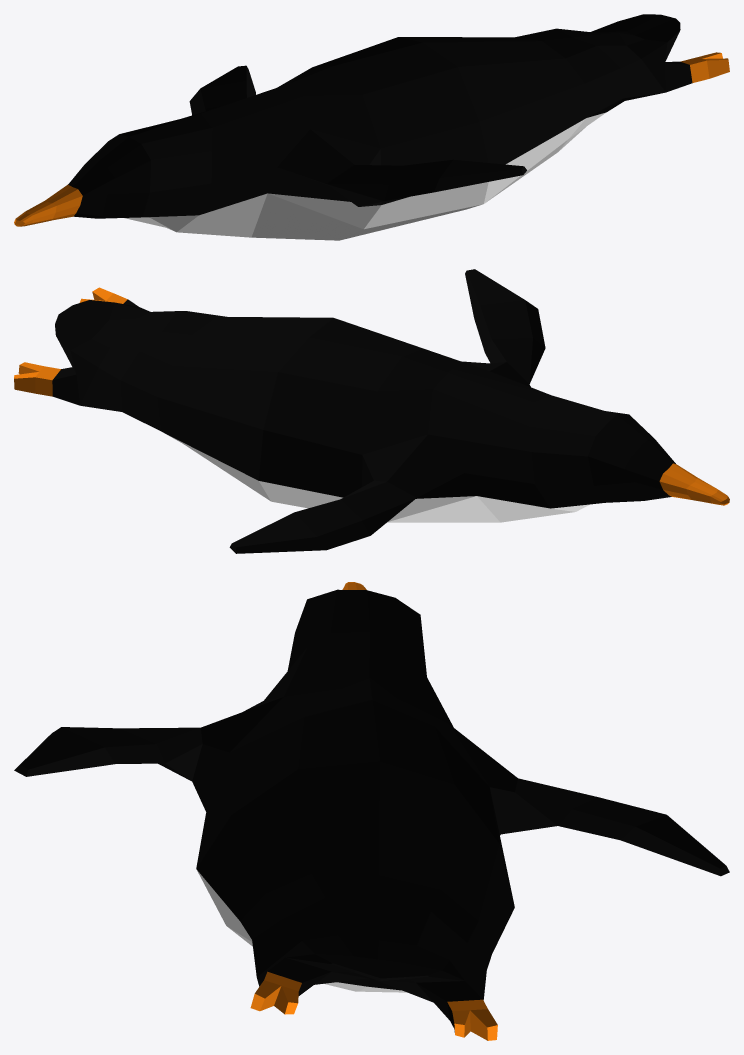
Rendered from Penguin.obj.
3 renders of one model, top to bottom at view 1: azimuth 30°, elevation 25°; view 2: azimuth 150°, elevation 25°; view 3: azimuth 270°, elevation 25°, orthographic. The views are drawn at different scales.
Parts seen in each view (by area): view 1: uploads_files_2454907_Penguin:Mesh; view 2: uploads_files_2454907_Penguin:Mesh; view 3: uploads_files_2454907_Penguin:Mesh.
Part boxes in pixels (left/top/right/bottom): uploads_files_2454907_Penguin:Mesh: left=14, top=14, right=729, bottom=240; uploads_files_2454907_Penguin:Mesh: left=14, top=269, right=729, bottom=553; uploads_files_2454907_Penguin:Mesh: left=14, top=582, right=729, bottom=1040.
Bounding box in the file's own units: 2.1 × 0.4547 × 1.42.
3 materials, 3 textured.
